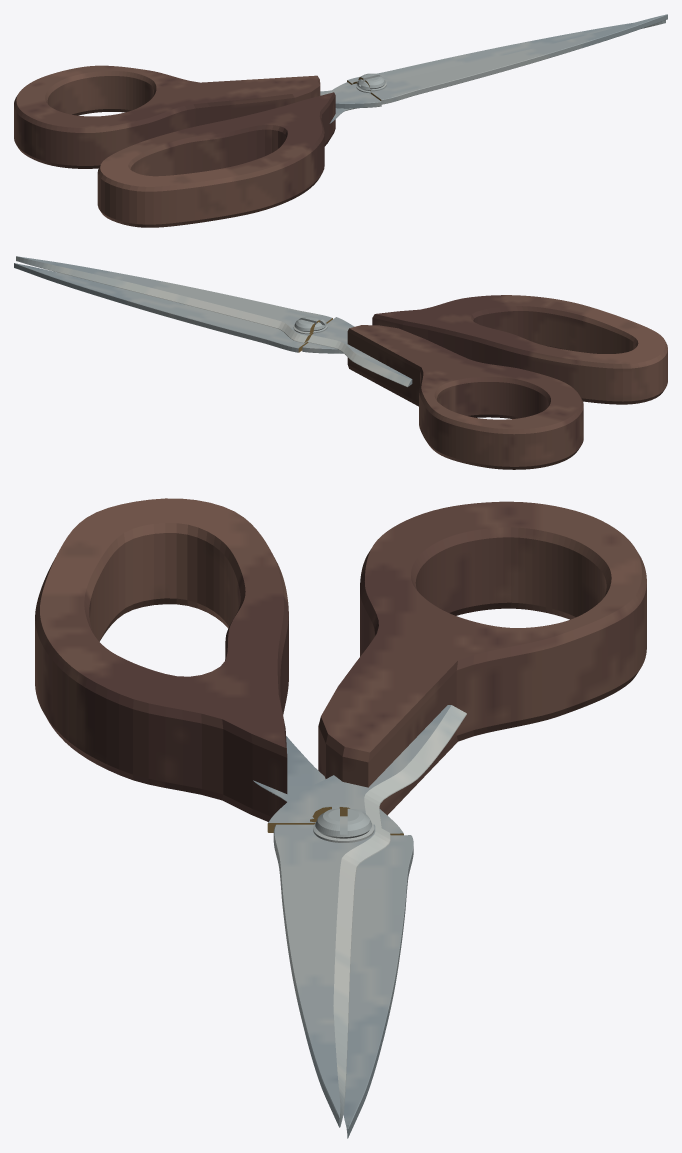
Rendered from Cut_scissors_TwoFragments_M410.fbx.
3 views of the same model, one above another, from view 1: azimuth 30°, elevation 25°; view 2: azimuth 150°, elevation 25°; view 3: azimuth 270°, elevation 25° (orthographic). The views are drawn at different scales.
Visible parts, largest first — view 1: Cut_scissors_Fragment0, Cut_scissors_Fragment1; view 2: Cut_scissors_Fragment0, Cut_scissors_Fragment1; view 3: Cut_scissors_Fragment0, Cut_scissors_Fragment1.
Part boxes in pixels (box(x1,y1,x2,y2)): Cut_scissors_Fragment0: box(14, 65, 381, 227); Cut_scissors_Fragment1: box(347, 14, 667, 104); Cut_scissors_Fragment0: box(302, 295, 667, 469); Cut_scissors_Fragment1: box(14, 256, 332, 352); Cut_scissors_Fragment0: box(35, 498, 646, 835); Cut_scissors_Fragment1: box(273, 808, 413, 1138).
Size of the model in its own units: 127 by 8.2 by 55.95.
Materials: 6 (5 with a texture image).
